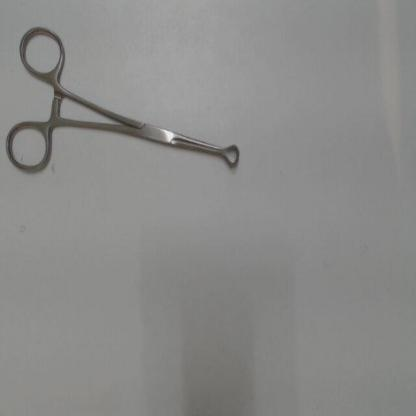Babcock Tissue Forceps: (2, 19, 244, 179)
